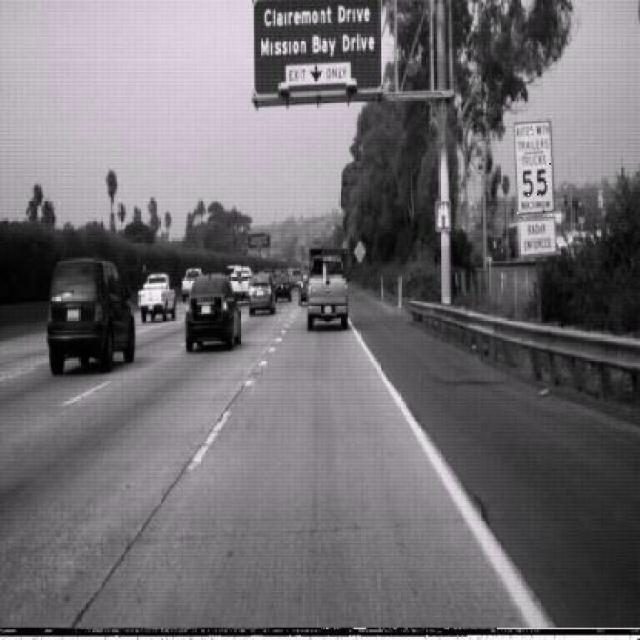truckSpeedLimit55: (514, 119, 554, 218)
